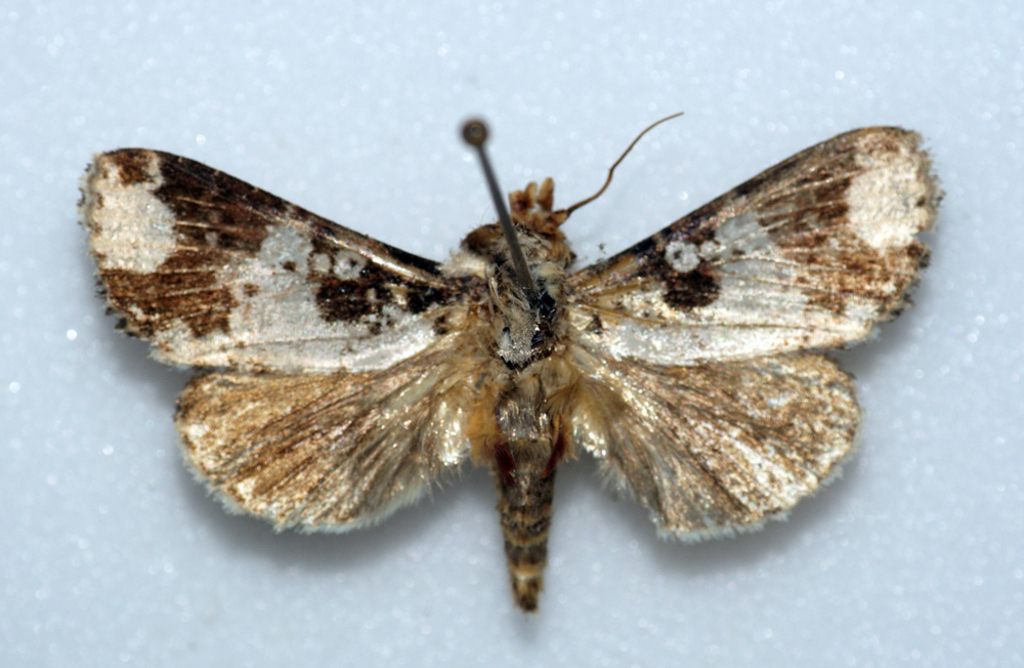Butterfly: (68, 117, 927, 635)
